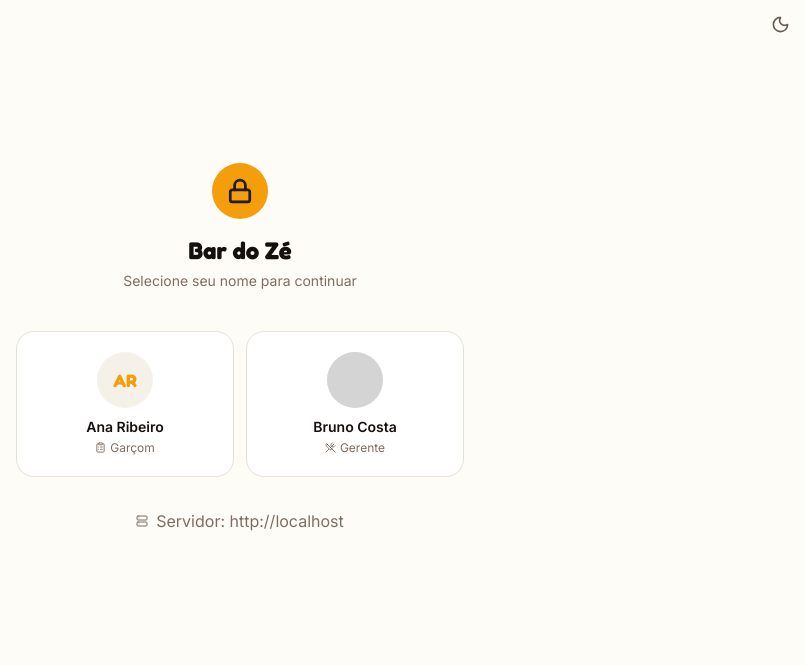
Scenario: LoginPagePin — PIN › Esc volta para a seleção de usuário
Click the text "Ana Ribeiro" at (125, 427), box [86,418,164,436]
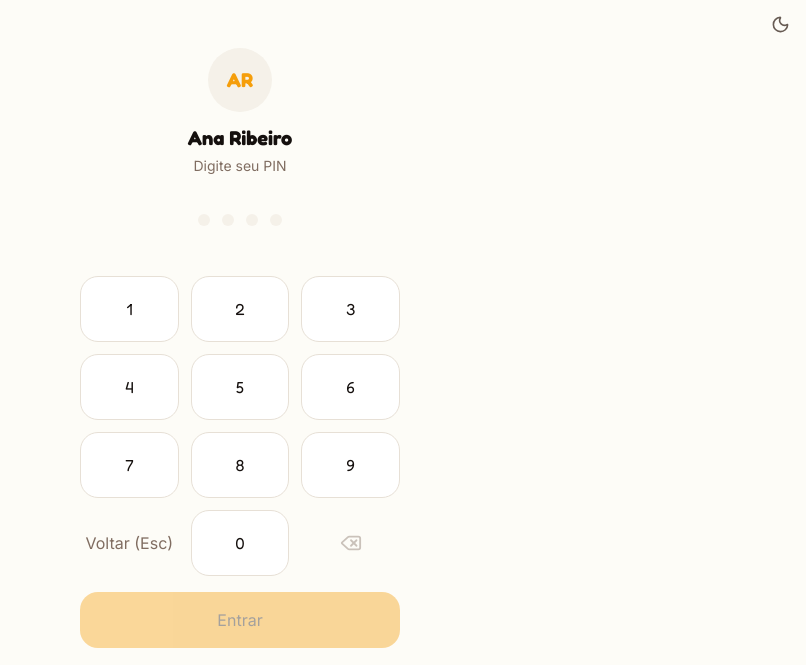
Press Escape
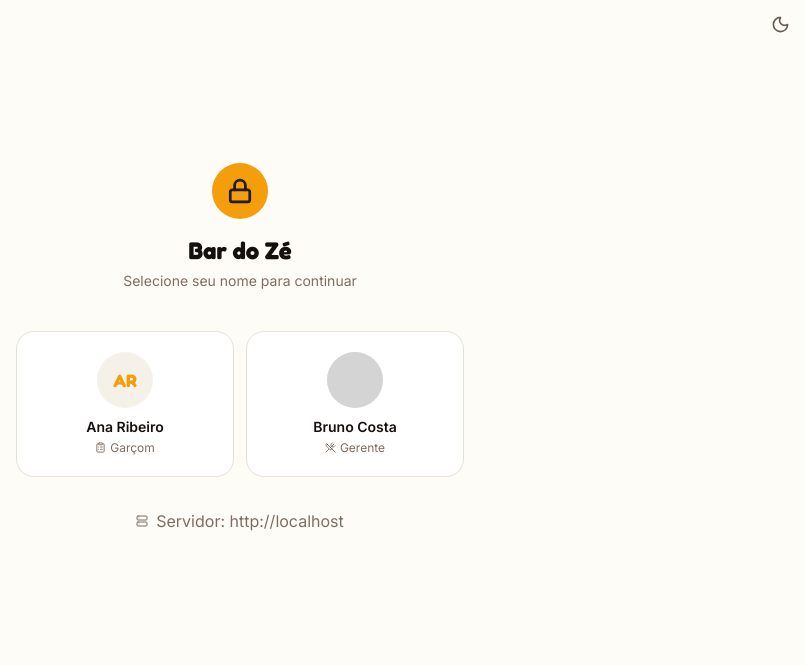
Expected: the text "Selecione seu nome para continuar" is shown, [123,272,357,289]
